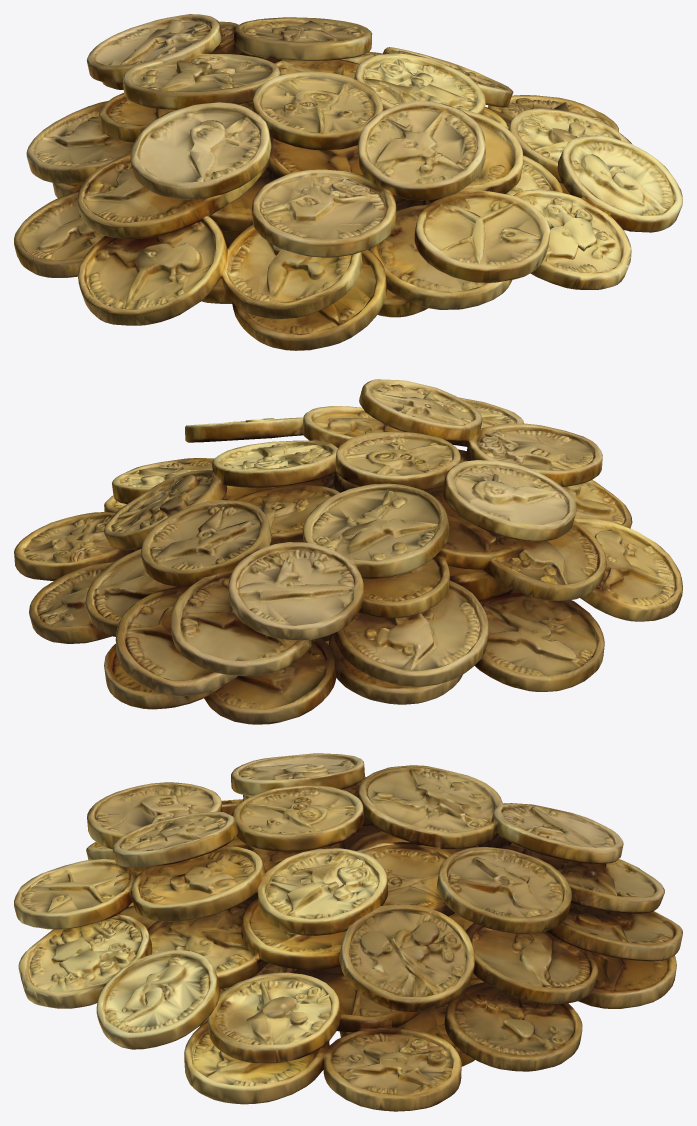
Rendered from coins.opt.glb.
3 renders of one model, top to bottom at view 1: azimuth 30°, elevation 25°; view 2: azimuth 150°, elevation 25°; view 3: azimuth 270°, elevation 25°, orthographic. The views are drawn at different scales.
Visible parts, largest first — view 1: tripo_node_396f536a-edcf-4def-81f0-31dbf9f3a5d9; view 2: tripo_node_396f536a-edcf-4def-81f0-31dbf9f3a5d9; view 3: tripo_node_396f536a-edcf-4def-81f0-31dbf9f3a5d9.
Part boxes in pixels (left/top/right/bottom): tripo_node_396f536a-edcf-4def-81f0-31dbf9f3a5d9: left=14, top=14, right=682, bottom=350; tripo_node_396f536a-edcf-4def-81f0-31dbf9f3a5d9: left=14, top=379, right=682, bottom=724; tripo_node_396f536a-edcf-4def-81f0-31dbf9f3a5d9: left=14, top=753, right=682, bottom=1111.
Size of the model in its own units: 0.9717 by 0.2599 by 0.9785.
Materials: 1 (1 with a texture image).
